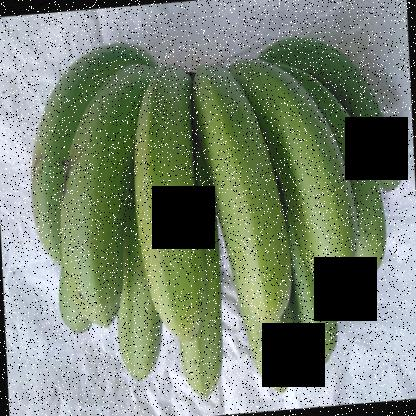freshunripe: (171, 20, 303, 334), (248, 60, 364, 282), (134, 54, 216, 345), (274, 231, 345, 374), (334, 141, 390, 280), (185, 257, 235, 408), (108, 262, 162, 376), (245, 304, 304, 394)
unripe: (53, 60, 145, 337), (25, 32, 76, 264)
